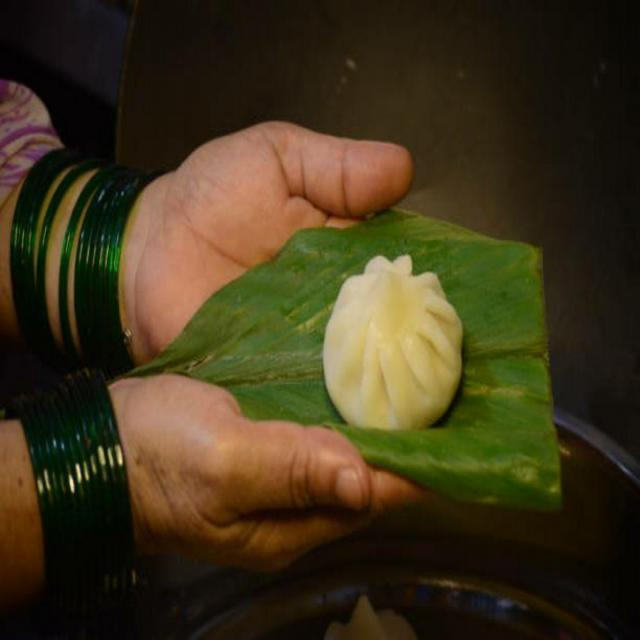modak: (336, 251, 459, 427)
